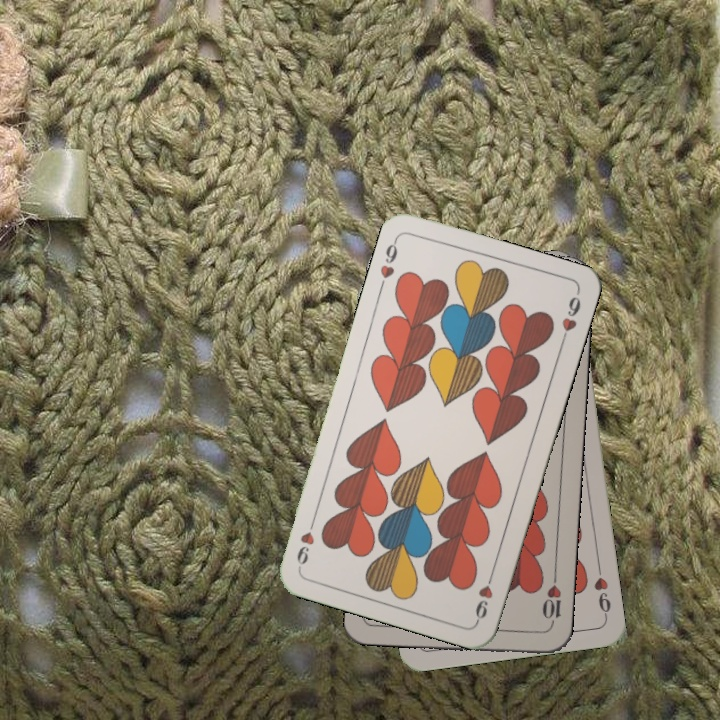H10: (538, 571, 564, 630)
H9: (471, 566, 497, 624), (375, 234, 401, 292), (590, 562, 614, 621)
